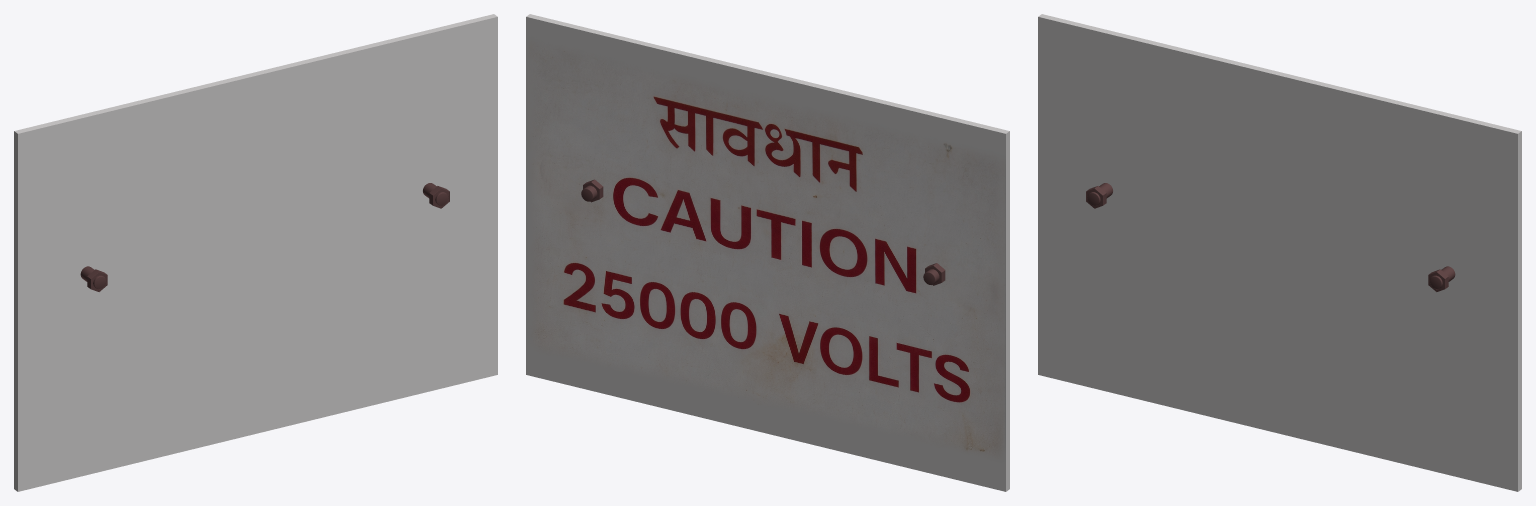
Rendered from Caution_Plate1.fbx.
3 renders of one model, left to right at view 1: azimuth 30°, elevation 25°; view 2: azimuth 150°, elevation 25°; view 3: azimuth 330°, elevation 25°, orthographic.
Visible parts, largest first — view 1: Caution_Plate_01, Caution_Plate_bolt; view 2: Caution_Plate_01, Caution_Plate_bolt; view 3: Caution_Plate_01, Caution_Plate_bolt.
Boxes of the visible parts, x1=… form: Caution_Plate_01: x1=14, y1=14, x2=497, y2=491; Caution_Plate_bolt: x1=80, y1=183, x2=449, y2=291; Caution_Plate_01: x1=526, y1=14, x2=1009, y2=491; Caution_Plate_bolt: x1=581, y1=179, x2=945, y2=285; Caution_Plate_01: x1=1038, y1=14, x2=1521, y2=491; Caution_Plate_bolt: x1=1086, y1=183, x2=1455, y2=291.
Bounding box in the file's own units: 34.12 × 24.33 × 3.12.
Materials: 2 (1 with a texture image).
